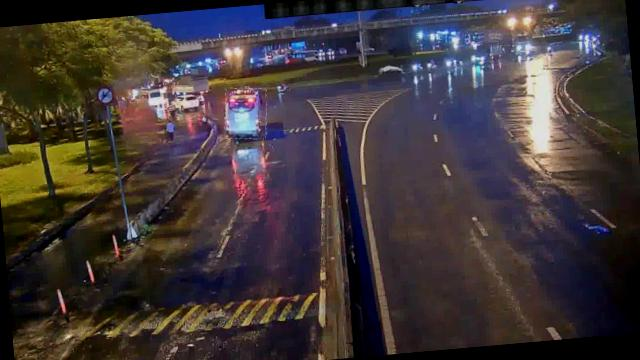Bus: (222, 86, 270, 142)
